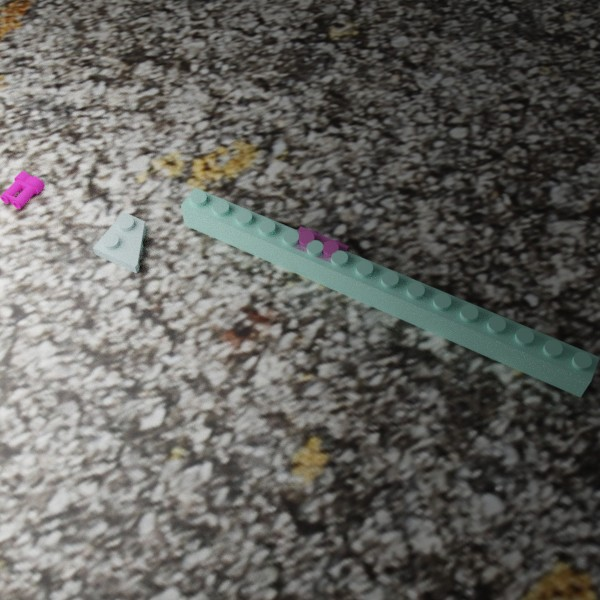lego: (180, 187, 599, 397), (287, 226, 348, 284), (92, 212, 146, 273), (0, 171, 44, 209)
